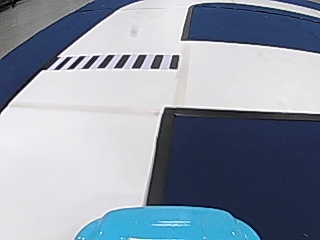CrossWalk: (53, 52, 182, 71)
